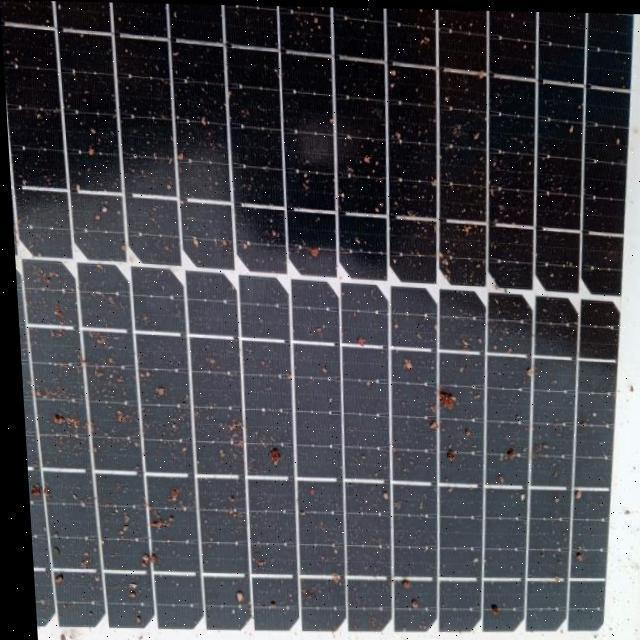Anomaly Solar Panel: (0, 4, 640, 639)
Surface Contaminant: (0, 4, 640, 633)
